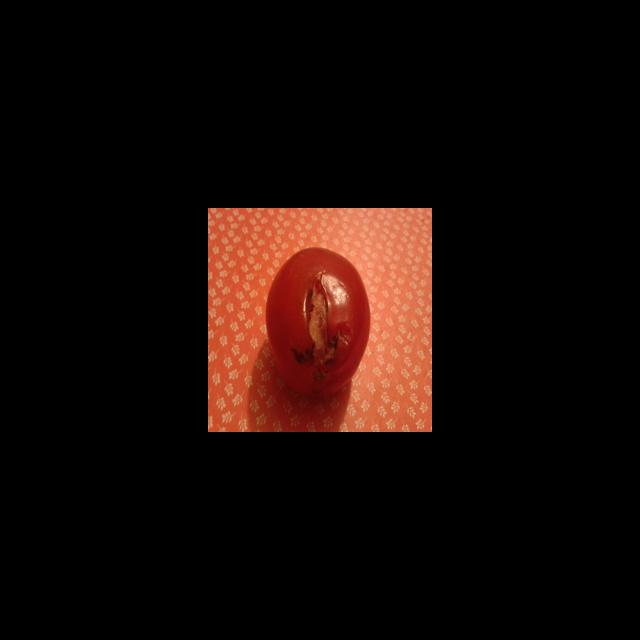tomato: (256, 238, 387, 402)
